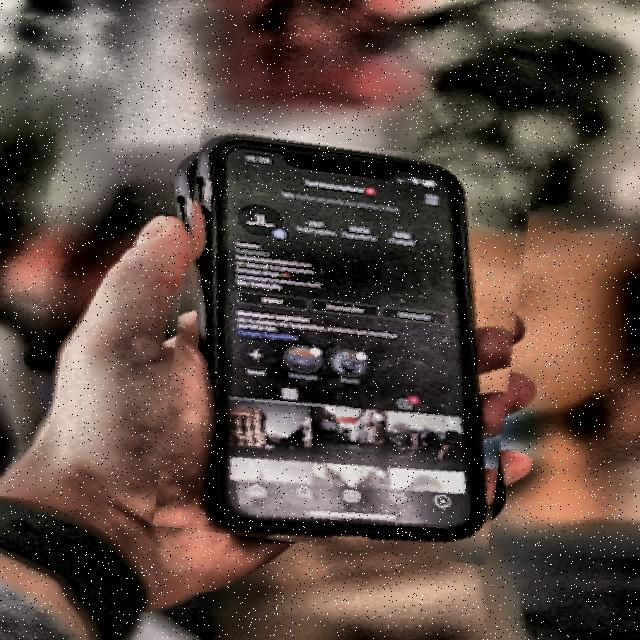Phone: (164, 136, 524, 556)
